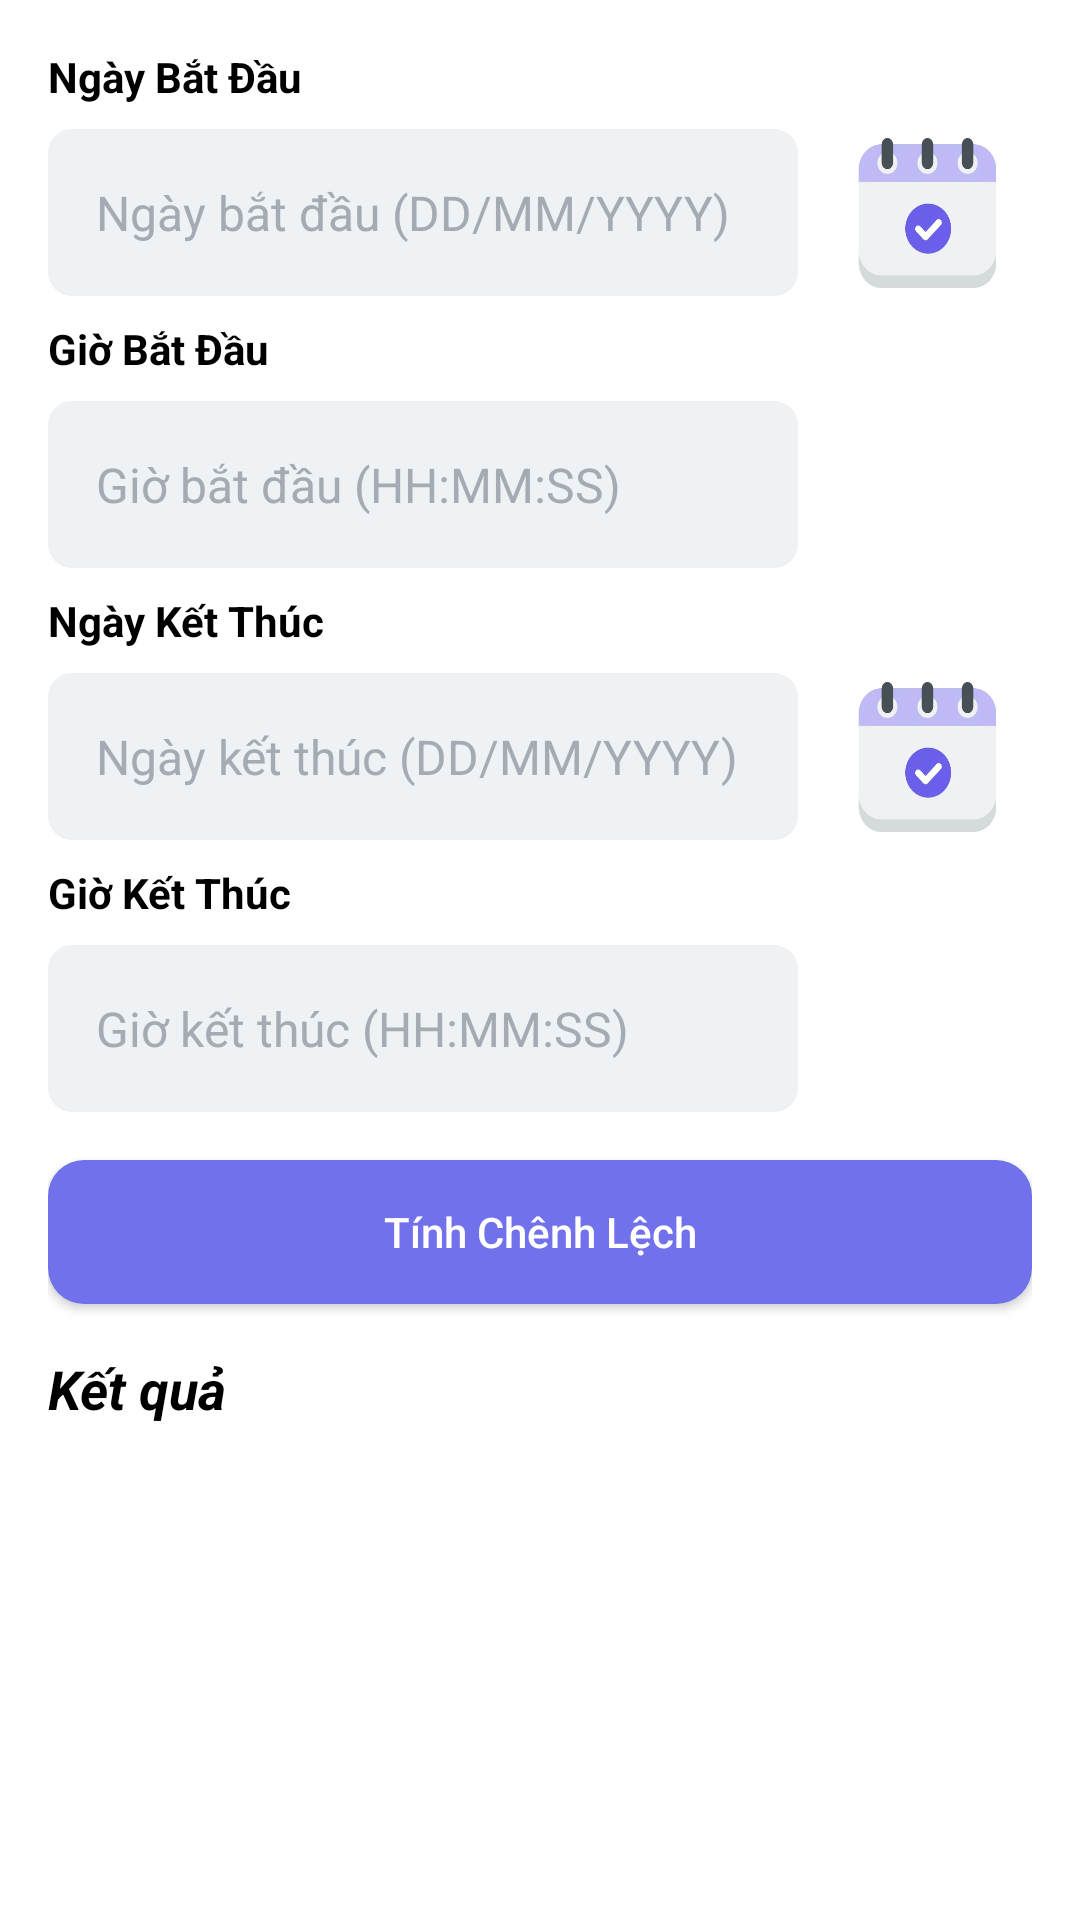

Where icons sit on this 1080 x 1920 app screen, as [x1,y1,x2,y2]:
calendar: [858,138,996,288], [858,682,996,832]
